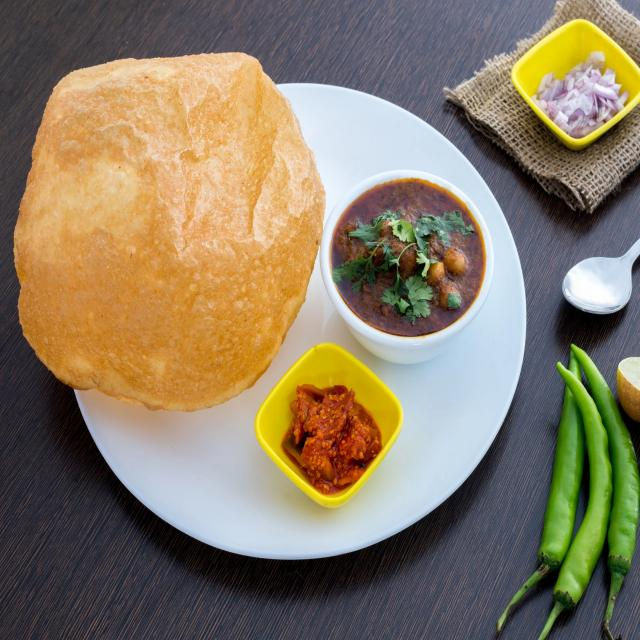Bhatura: (16, 53, 322, 411)
